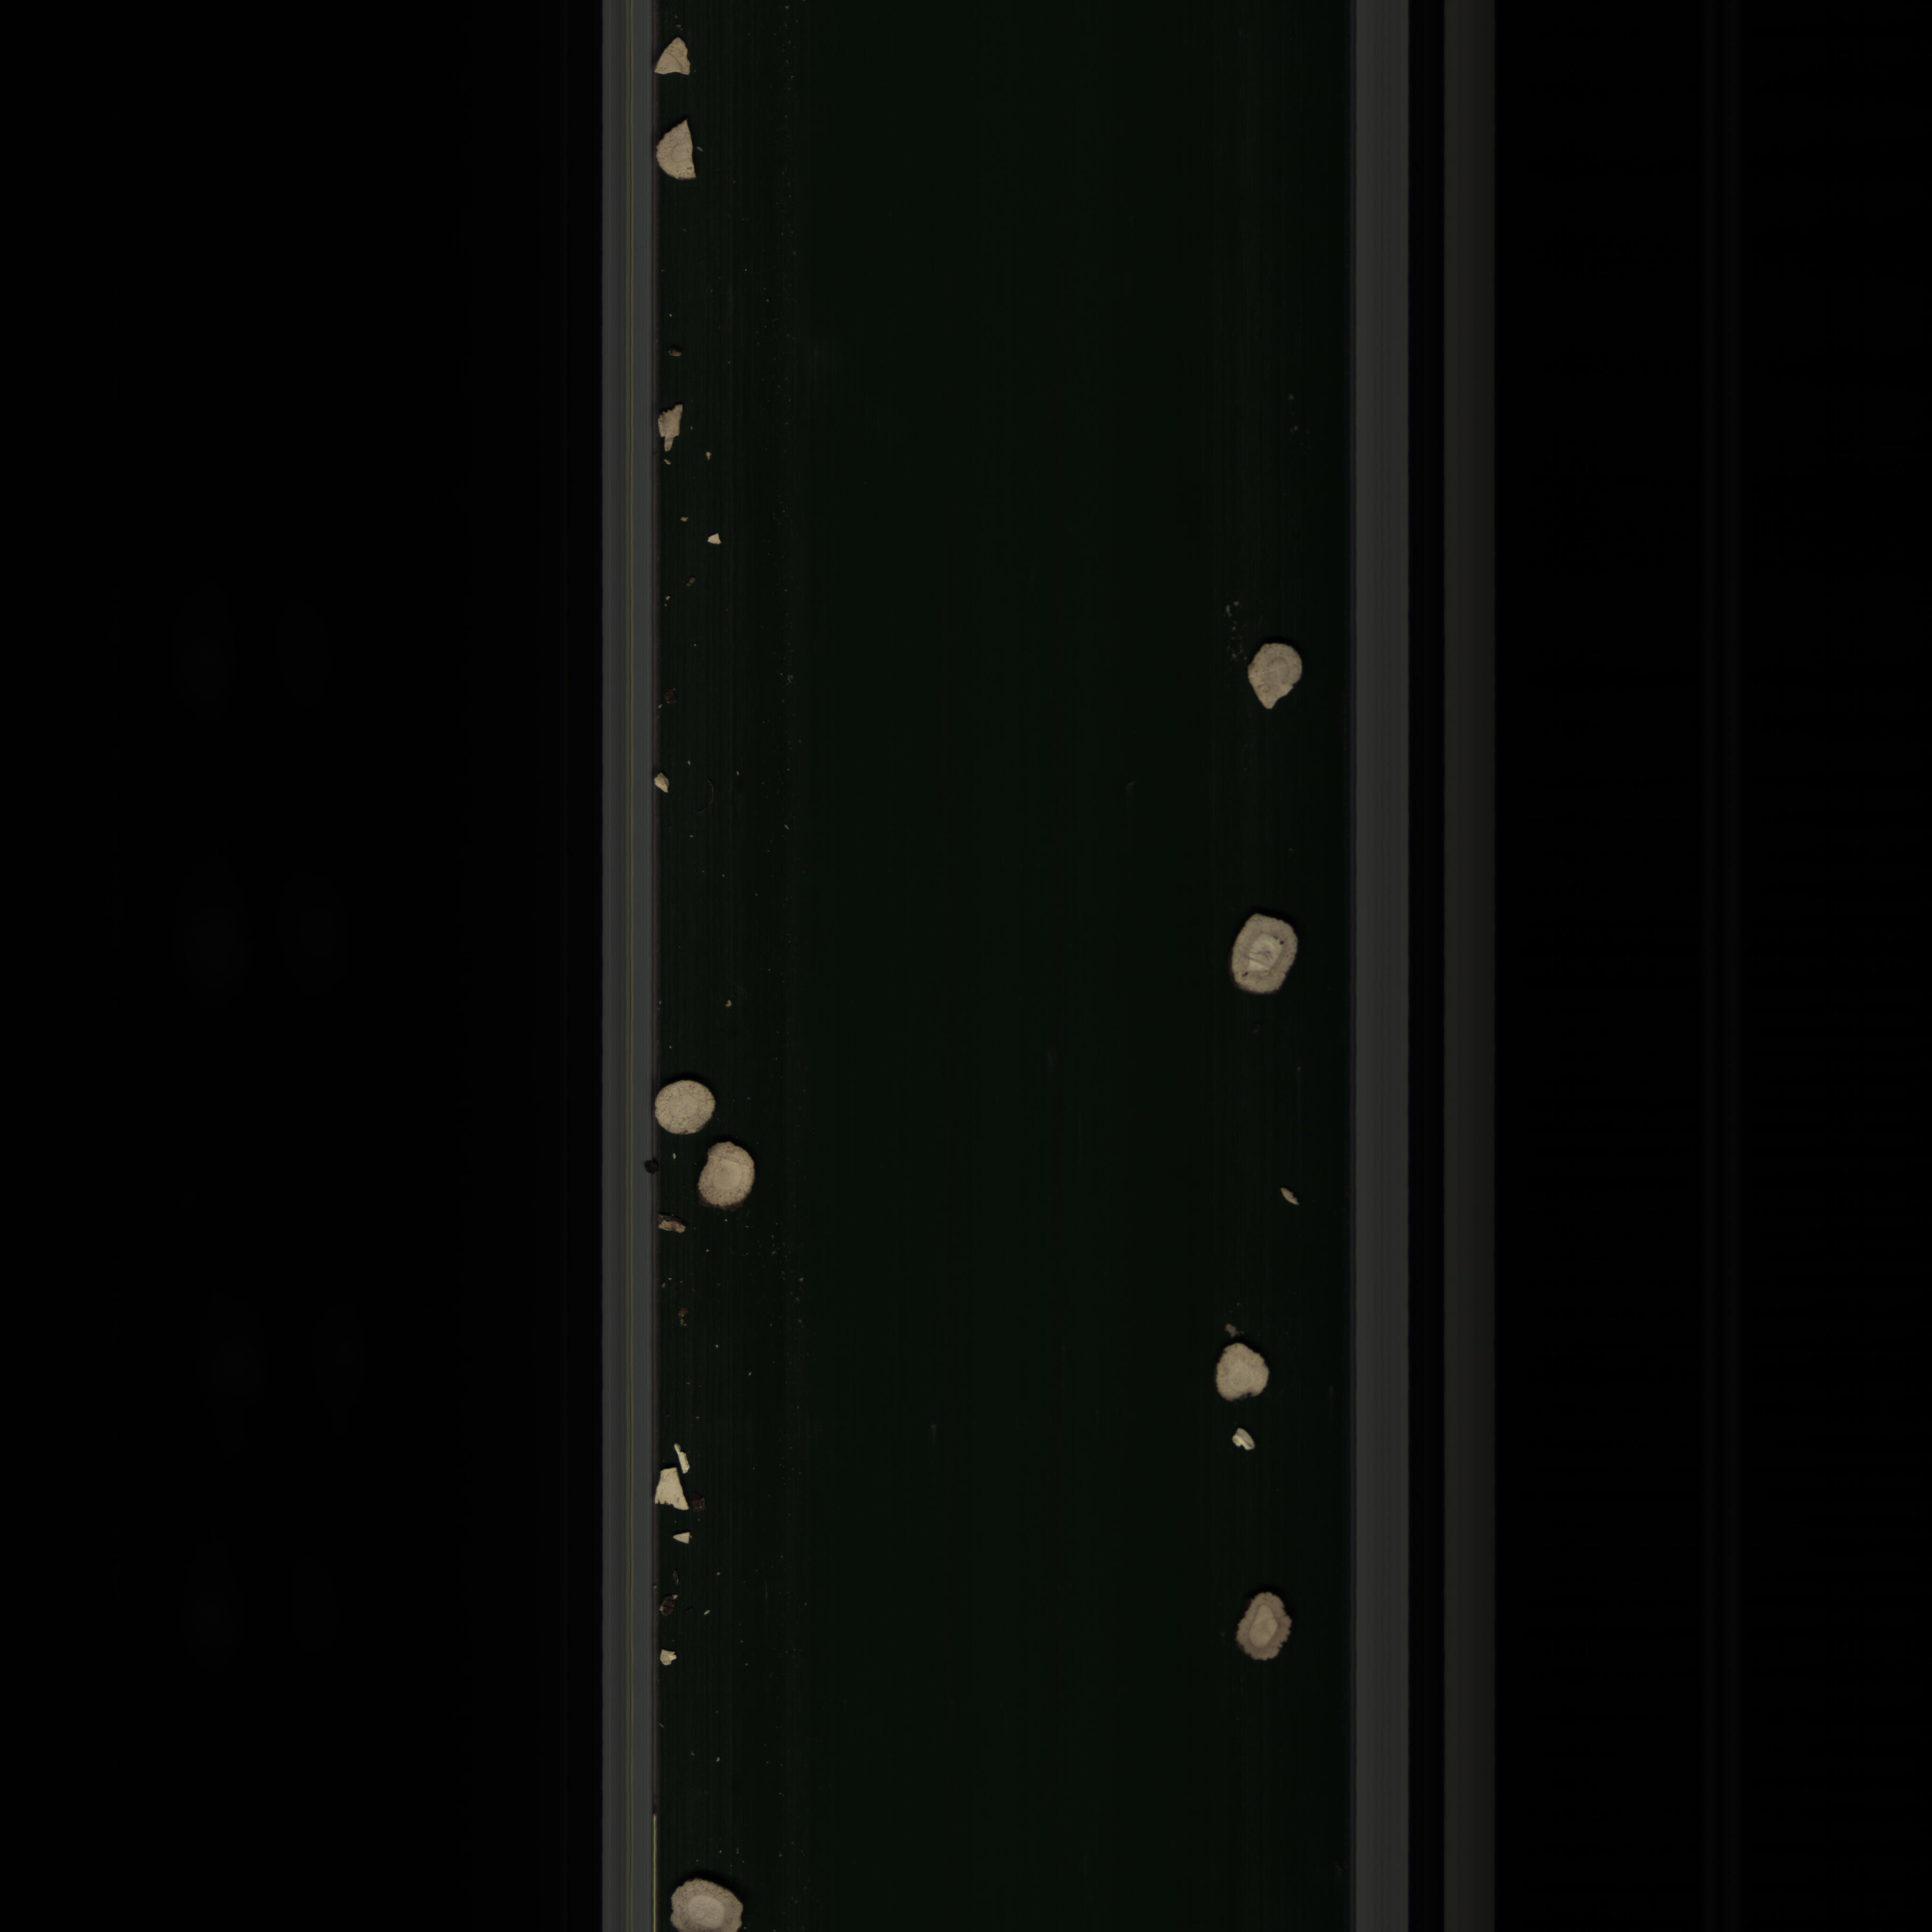debris: (655, 1431, 706, 1522), (655, 115, 708, 193), (651, 34, 708, 94), (653, 400, 692, 456)
distortion: (1240, 630, 1309, 720)
moldy: (1223, 1568, 1297, 1674)
